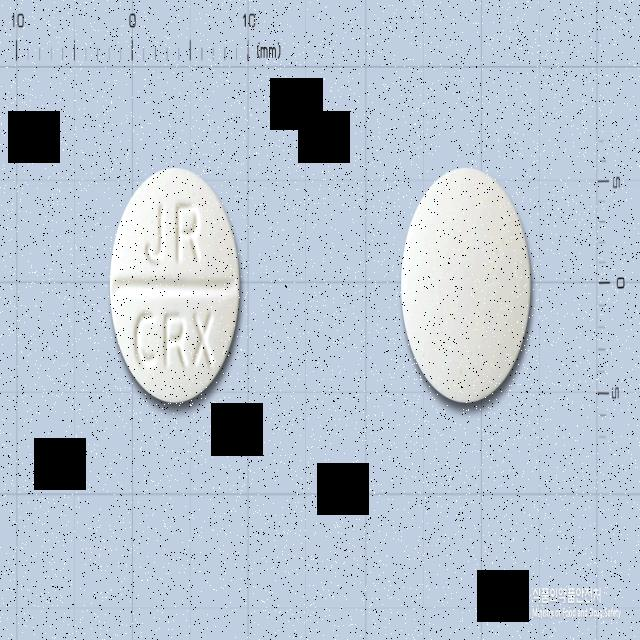Ciroxin: (106, 164, 243, 414)
